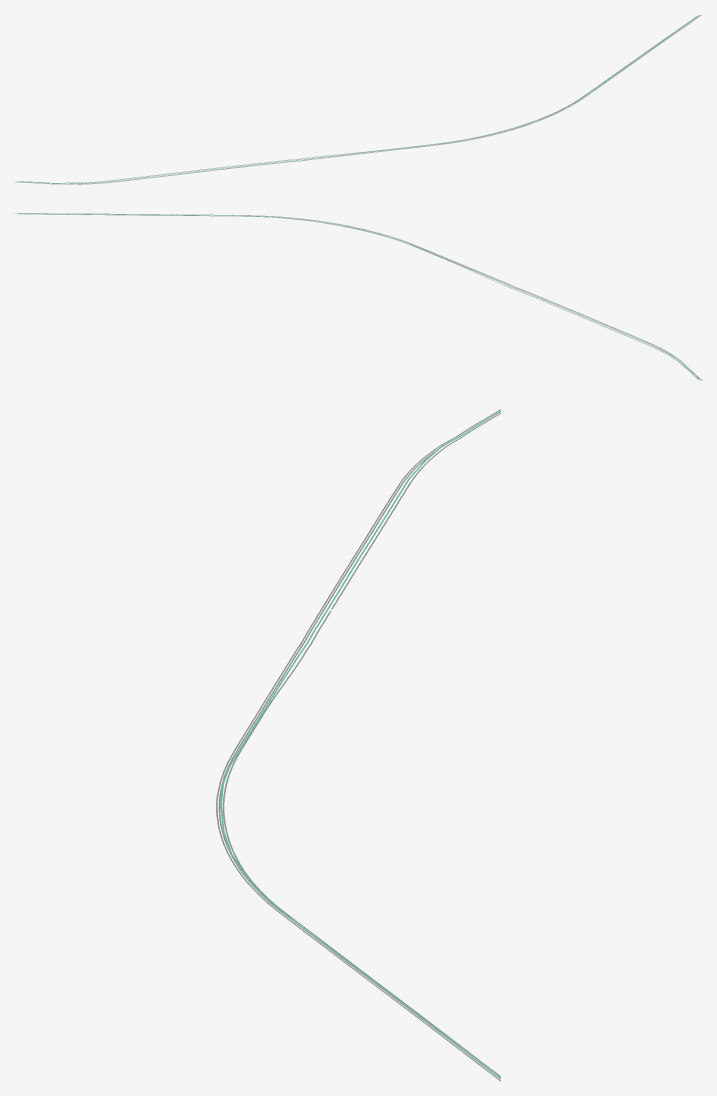
File: erindale-go-go.glb
3 renders of one model, top to bottom at view 1: azimuth 30°, elevation 25°; view 2: azimuth 150°, elevation 25°; view 3: azimuth 270°, elevation 25°, orthographic. The views are drawn at different scales.
Parts seen in each view (by area): view 1: service-guide-go-MI-0, city-railway-1061968-0, city-railway-1061971-0; view 2: service-guide-go-MI-0, city-railway-1061968-0, city-railway-1061970-2; view 3: service-guide-go-MI-0, city-railway-1061968-0.
Part boxes in pixels (x1,y1,x2,y2): service-guide-go-MI-0: (16, 15, 699, 183); city-railway-1061968-0: (303, 15, 697, 158); city-railway-1061971-0: (303, 15, 699, 160); service-guide-go-MI-0: (18, 213, 700, 380); city-railway-1061968-0: (19, 214, 508, 287); city-railway-1061970-2: (14, 213, 343, 225); service-guide-go-MI-0: (220, 410, 500, 1078); city-railway-1061968-0: (222, 645, 500, 1077).
Size of the model in its own units: 2696 by 3.94 by 483.
